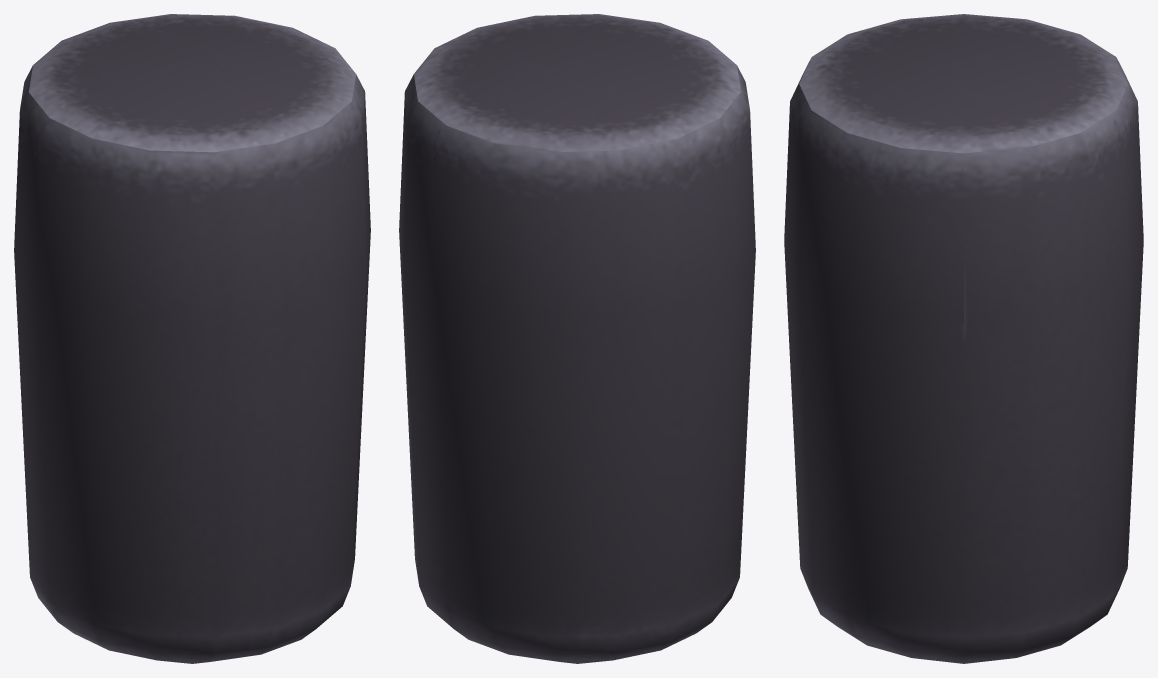
File: thigh_l.glb
3 renders of one model, left to right at view 1: azimuth 30°, elevation 25°; view 2: azimuth 150°, elevation 25°; view 3: azimuth 270°, elevation 25°, orthographic.
Visible parts, largest first — view 1: thigh_l; view 2: thigh_l; view 3: thigh_l.
Boxes of the visible parts, x1=… form: thigh_l: x1=14, y1=14, x2=370, y2=663; thigh_l: x1=399, y1=14, x2=755, y2=663; thigh_l: x1=784, y1=14, x2=1143, y2=663.
Size of the model in its own units: 0.104 by 0.1875 by 0.104.
Materials: 1 (1 with a texture image).
